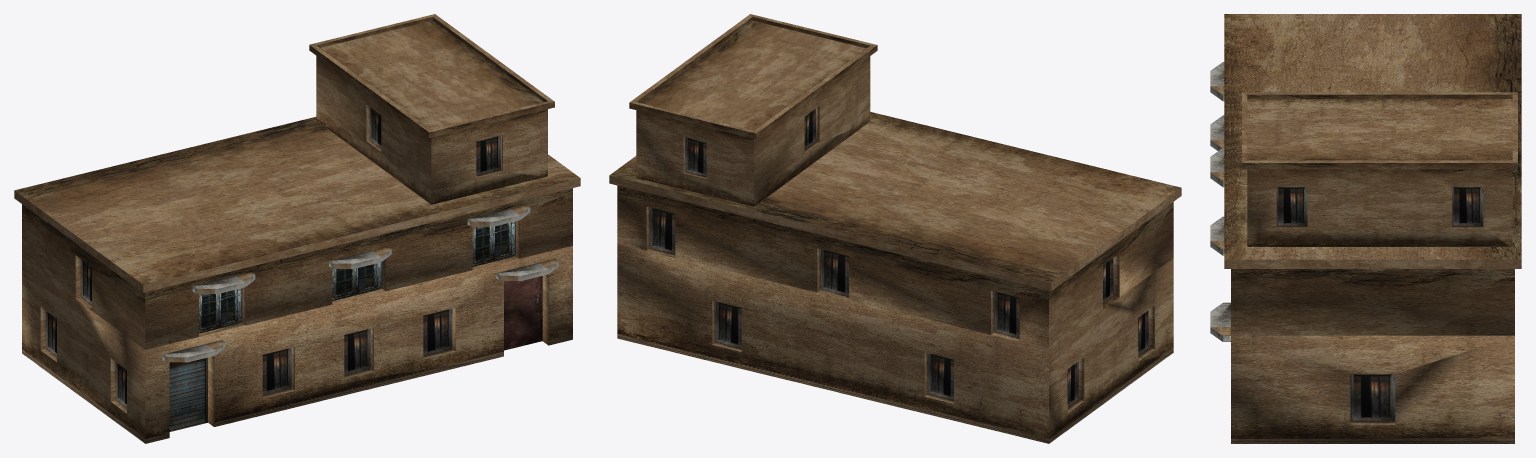
File: BuildingC_Seperated.fbx
3 renders of one model, left to right at view 1: azimuth 30°, elevation 25°; view 2: azimuth 150°, elevation 25°; view 3: azimuth 270°, elevation 25°, orthographic. The views are drawn at different scales.
Visible parts, largest first — view 1: BuildingC_Roof1, BuildingC_Wall1, BuildingC_Wall2, BuildingC_Roof2, BuildingC_Wall3, BuildingC_Door1, BuildingC_Door2, BuildingC_Window4, BuildingC_Window6, BuildingC_Window5, BuildingC_Window3, BuildingC_Window1 (+6 smaller); view 2: BuildingC_Wall1, BuildingC_Roof1, BuildingC_Wall2, BuildingC_Roof2, BuildingC_Wall3, BuildingC_Window9, BuildingC_Window11, BuildingC_Window12, BuildingC_Window8, BuildingC_Window10, BuildingC_Window16, BuildingC_Window19 (+3 smaller); view 3: BuildingC_Roof1, BuildingC_Wall1, BuildingC_Roof2, BuildingC_Wall2, BuildingC_Wall3, BuildingC_Window7, BuildingC_Window14, BuildingC_Window15, BuildingC_Door2, BuildingC_Window4, BuildingC_Window5, BuildingC_Window6 (+1 smaller).
Part boxes in pixels (bbox=[...]): BuildingC_Roof1: bbox=[14, 117, 580, 292]; BuildingC_Wall1: bbox=[22, 246, 572, 443]; BuildingC_Wall2: bbox=[22, 188, 572, 349]; BuildingC_Roof2: bbox=[309, 14, 554, 137]; BuildingC_Wall3: bbox=[316, 56, 547, 204]; BuildingC_Door1: bbox=[162, 340, 225, 431]; BuildingC_Door2: bbox=[496, 259, 558, 350]; BuildingC_Window4: bbox=[192, 272, 255, 336]; BuildingC_Window6: bbox=[467, 204, 530, 267]; BuildingC_Window5: bbox=[329, 247, 391, 300]; BuildingC_Window3: bbox=[423, 308, 455, 359]; BuildingC_Window1: bbox=[262, 347, 294, 398]; BuildingC_Wall1: bbox=[617, 244, 1173, 443]; BuildingC_Roof1: bbox=[609, 112, 1181, 290]; BuildingC_Wall2: bbox=[617, 185, 1173, 348]; BuildingC_Roof2: bbox=[629, 14, 877, 139]; BuildingC_Wall3: bbox=[636, 56, 870, 206]; BuildingC_Window9: bbox=[817, 248, 848, 299]; BuildingC_Window11: bbox=[712, 301, 741, 351]; BuildingC_Window12: bbox=[924, 352, 953, 403]; BuildingC_Window8: bbox=[646, 207, 675, 256]; BuildingC_Window10: bbox=[991, 290, 1019, 339]; BuildingC_Window16: bbox=[683, 136, 706, 178]; BuildingC_Window19: bbox=[1067, 357, 1084, 412]; BuildingC_Roof1: bbox=[1224, 14, 1521, 268]; BuildingC_Wall1: bbox=[1231, 335, 1514, 443]; BuildingC_Roof2: bbox=[1242, 92, 1517, 169]; BuildingC_Wall2: bbox=[1231, 269, 1514, 335]; BuildingC_Wall3: bbox=[1247, 169, 1512, 246]; BuildingC_Window7: bbox=[1350, 374, 1395, 424]; BuildingC_Window14: bbox=[1276, 186, 1307, 228]; BuildingC_Window15: bbox=[1452, 186, 1483, 228]; BuildingC_Door2: bbox=[1210, 302, 1230, 341]; BuildingC_Window4: bbox=[1210, 62, 1224, 101]; BuildingC_Window5: bbox=[1210, 148, 1224, 187]; BuildingC_Window6: bbox=[1210, 216, 1224, 255].
Size of the model in its own units: 1466 by 761 by 785.
